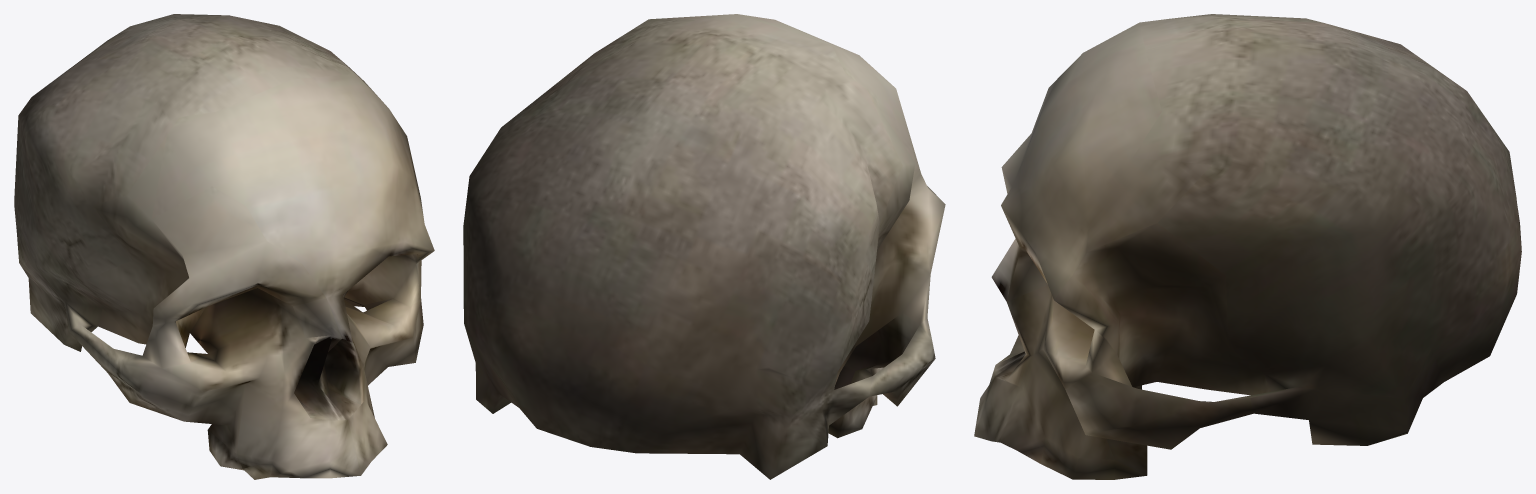
Rendered from skull_05.glb.
The picture shows the model from 3 angles, left to right: view 1: azimuth 30°, elevation 25°; view 2: azimuth 150°, elevation 25°; view 3: azimuth 270°, elevation 25°; orthographic projection. The views are drawn at different scales.
Visible parts, largest first — view 1: skull_05; view 2: skull_05; view 3: skull_05.
Boxes of the visible parts, x1,y1,x2,y2 form: skull_05: (14,14,434,479); skull_05: (463,14,945,479); skull_05: (974,14,1521,479).
Bounding box in the file's own units: 0.1526 × 0.172 × 0.205.
Materials: 1 (1 with a texture image).
